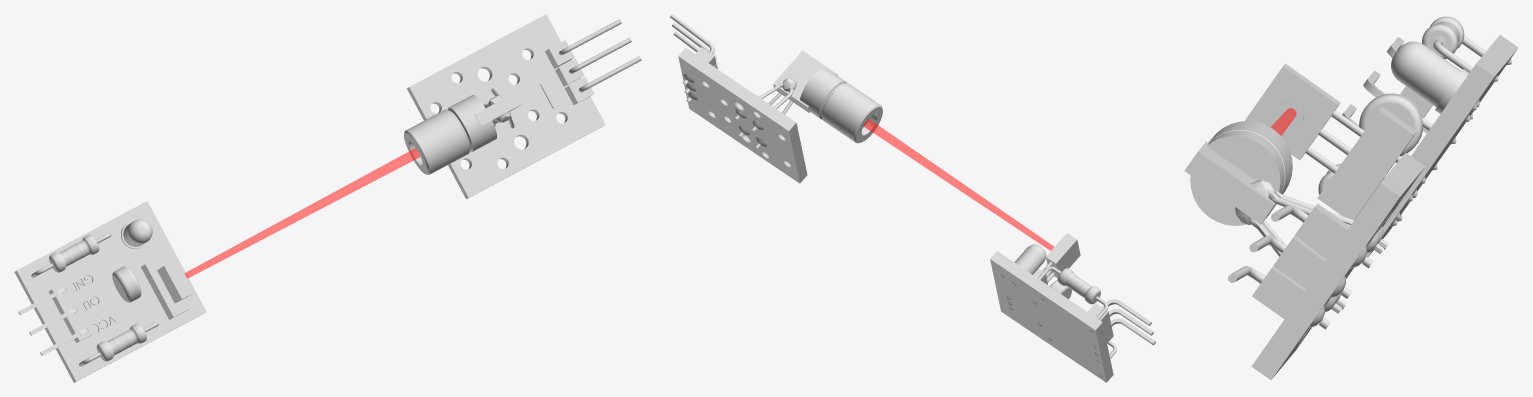
3 renders of one model, left to right at view 1: azimuth 30°, elevation 25°; view 2: azimuth 150°, elevation 25°; view 3: azimuth 270°, elevation 25°, orthographic. The views are drawn at different scales.
Parts seen in each view (by area): view 1: laser module.001, LASER RECEVER, laser module.002; view 2: laser module.001, LASER RECEVER, laser module.002; view 3: laser module.001, LASER RECEVER, laser module.002.
Part boxes in pixels (left/top/right/bottom): laser module.001: left=404, top=14, right=641, bottom=199; LASER RECEVER: left=14, top=201, right=206, bottom=382; laser module.002: left=184, top=148, right=420, bottom=278; laser module.001: left=670, top=14, right=882, bottom=183; LASER RECEVER: left=990, top=233, right=1155, bottom=382; laser module.002: left=864, top=119, right=1054, bottom=250; laser module.001: left=1184, top=121, right=1424, bottom=379; LASER RECEVER: left=1244, top=16, right=1518, bottom=259; laser module.002: left=1271, top=108, right=1296, bottom=135.
Bounding box in the file's own units: 0.1026 × 0.0444 × 0.0286.
